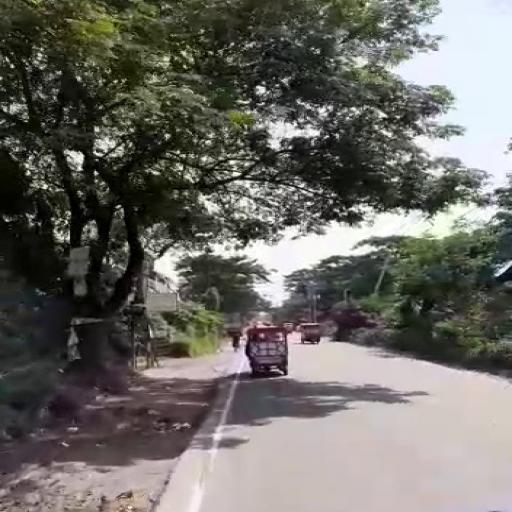auto rickshaw: (247, 326, 295, 373), (299, 321, 320, 343)
